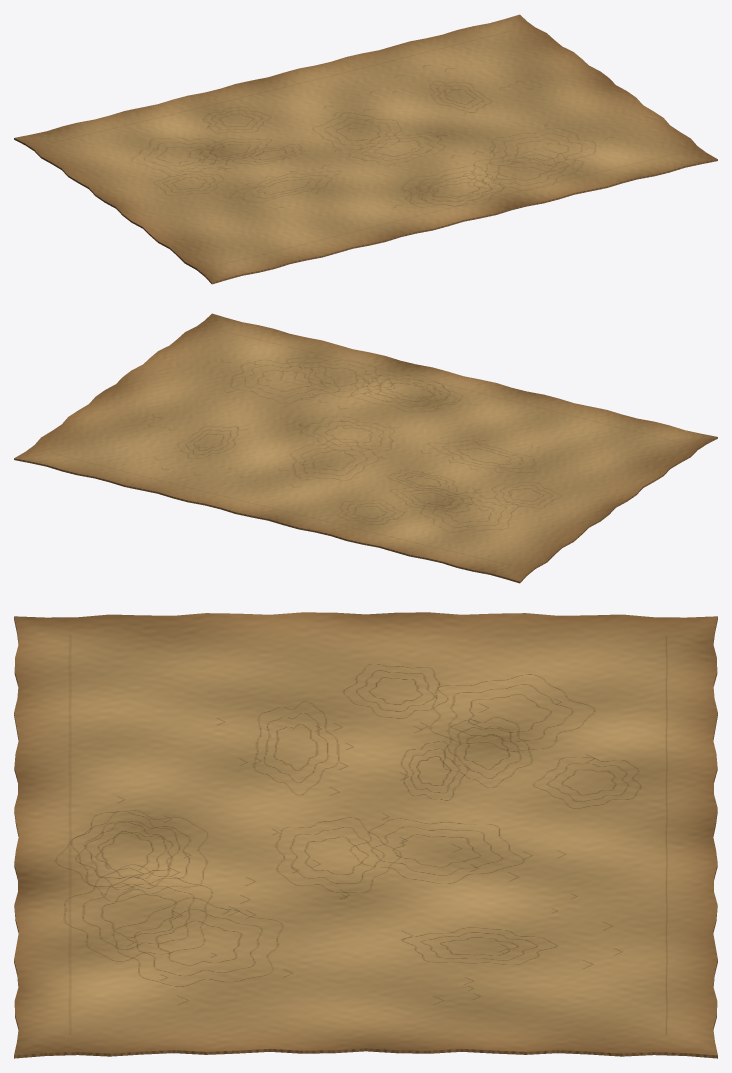
The model's file is PRP_MapaAntiguo_01.fbx.
3 views of the same model, one above another, from view 1: azimuth 30°, elevation 25°; view 2: azimuth 150°, elevation 25°; view 3: azimuth 270°, elevation 25° (orthographic). The views are drawn at different scales.
Parts seen in each view (by area): view 1: Map_Geometry; view 2: Map_Geometry; view 3: Map_Geometry.
Boxes of the visible parts, left/top/right/bottom form: Map_Geometry: left=14, top=14, right=717, bottom=284; Map_Geometry: left=14, top=313, right=717, bottom=583; Map_Geometry: left=14, top=612, right=717, bottom=1058.
Bounding box in the file's own units: 0.62 × 0.00797 × 0.42.
